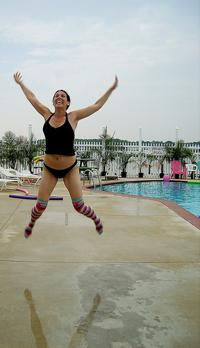person: (15, 70, 119, 240)
